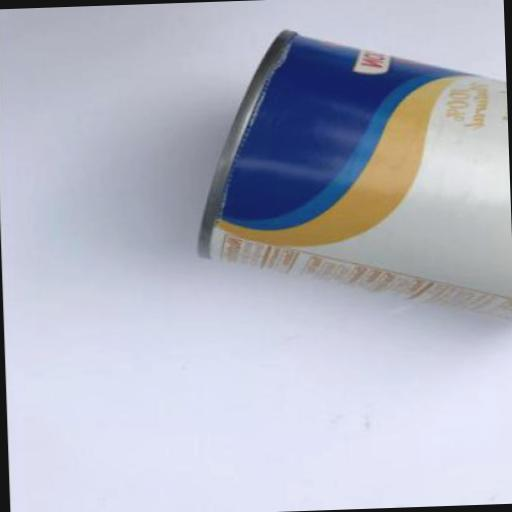metal: (189, 21, 512, 338)
